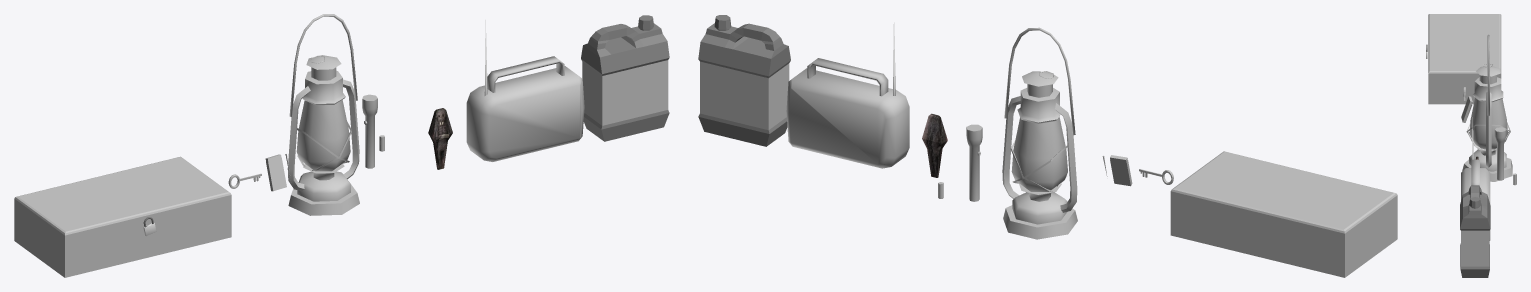
Rendered from Items.fbx.
The picture shows the model from 3 angles, left to right: view 1: azimuth 30°, elevation 25°; view 2: azimuth 150°, elevation 25°; view 3: azimuth 270°, elevation 25°; orthographic projection. The views are drawn at different scales.
Visible parts, largest first — view 1: Radio_03, BoxTop, Jerigen, Farol, BoxBottom, Jenglot, Lantern, Handle, match; view 2: Radio_03, BoxTop, Jerigen, Farol, BoxBottom, Jenglot, Lantern, Handle, match; view 3: BoxTop, Farol, Jerigen, BoxBottom, Radio_03, Lantern, Handle, match.
Boxes of the visible parts, x1,y1,x2,y2 form: Radio_03: (466, 20, 584, 161); BoxTop: (14, 156, 231, 240); Jerigen: (581, 15, 669, 141); Farol: (287, 55, 359, 215); BoxBottom: (14, 199, 231, 277); Jenglot: (428, 108, 452, 169); Lantern: (362, 94, 377, 168); Handle: (289, 14, 357, 116); match: (265, 154, 286, 191); Radio_03: (786, 22, 909, 168); BoxTop: (1170, 151, 1397, 238); Jerigen: (698, 15, 790, 146); Farol: (1002, 71, 1077, 239); BoxBottom: (1170, 196, 1397, 277); Jenglot: (922, 113, 947, 177); Lantern: (966, 124, 982, 201); Handle: (1004, 27, 1075, 135); match: (1110, 155, 1132, 186); BoxTop: (1428, 14, 1501, 76); Farol: (1462, 64, 1512, 181); Jerigen: (1460, 185, 1490, 277); BoxBottom: (1428, 77, 1501, 104); Radio_03: (1461, 117, 1490, 240); Lantern: (1494, 127, 1505, 180); Handle: (1487, 34, 1489, 115); match: (1461, 96, 1472, 122).
Size of the model in its own units: 1430 by 408 by 249.
